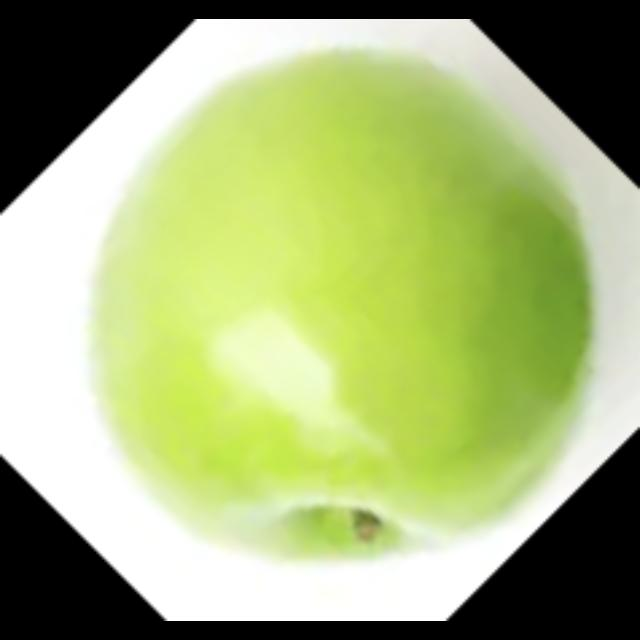Apel Segar: (53, 48, 602, 574)
